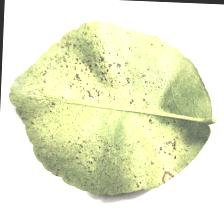canker: (58, 30, 130, 97)
